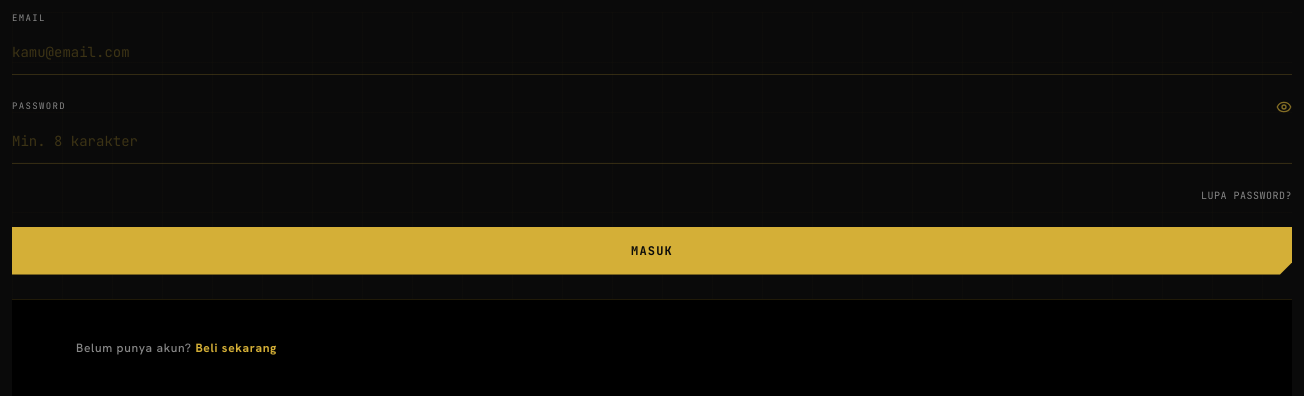
Test: LoginForm › shows inline error jika password kurang dari 8 karakter
Type "test@test.com" into the field labelled "Email".
click(652, 52); type("test@test.com")  # box [12, 30, 1292, 74]
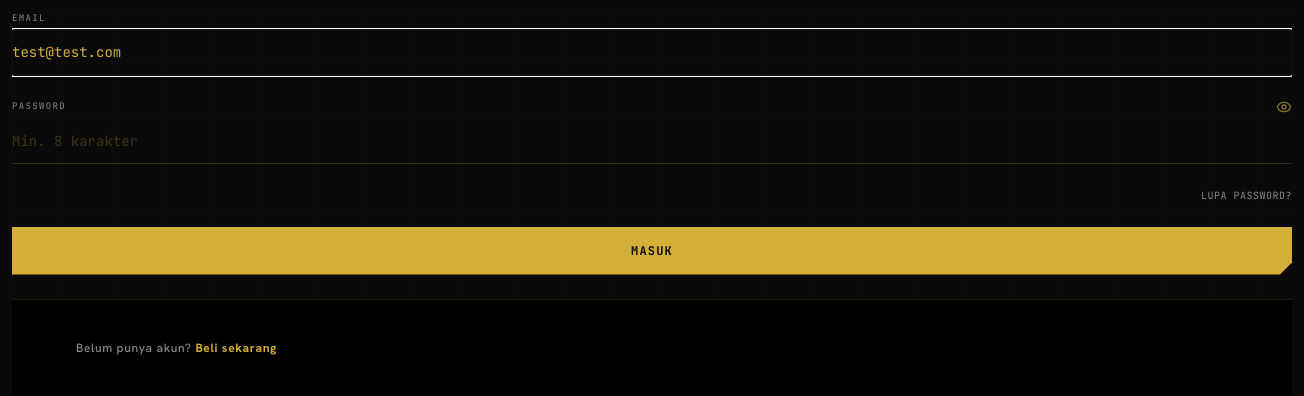
Type "123" into the password field labelled "Password".
click(652, 141); type("123")  # box [12, 118, 1292, 164]
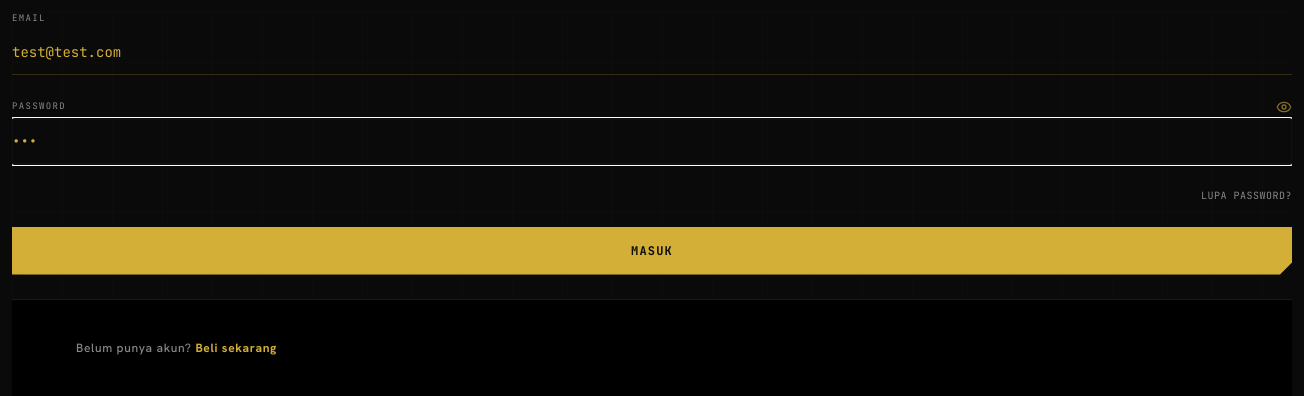
Click the button "MASUK".
click(652, 250)  # box [12, 226, 1292, 274]
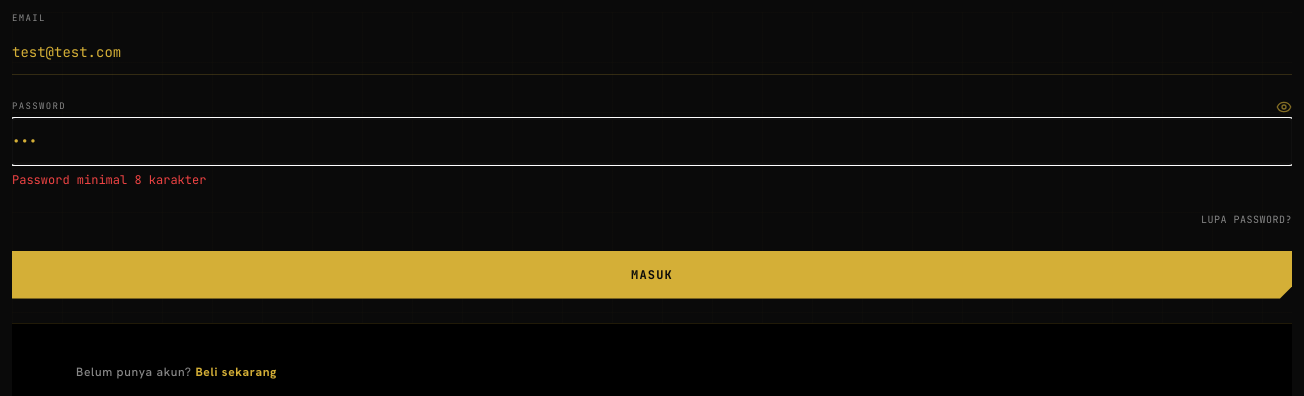
Expected: the text "Password minimal 8 karakter" is shown, [12, 172, 206, 188]
